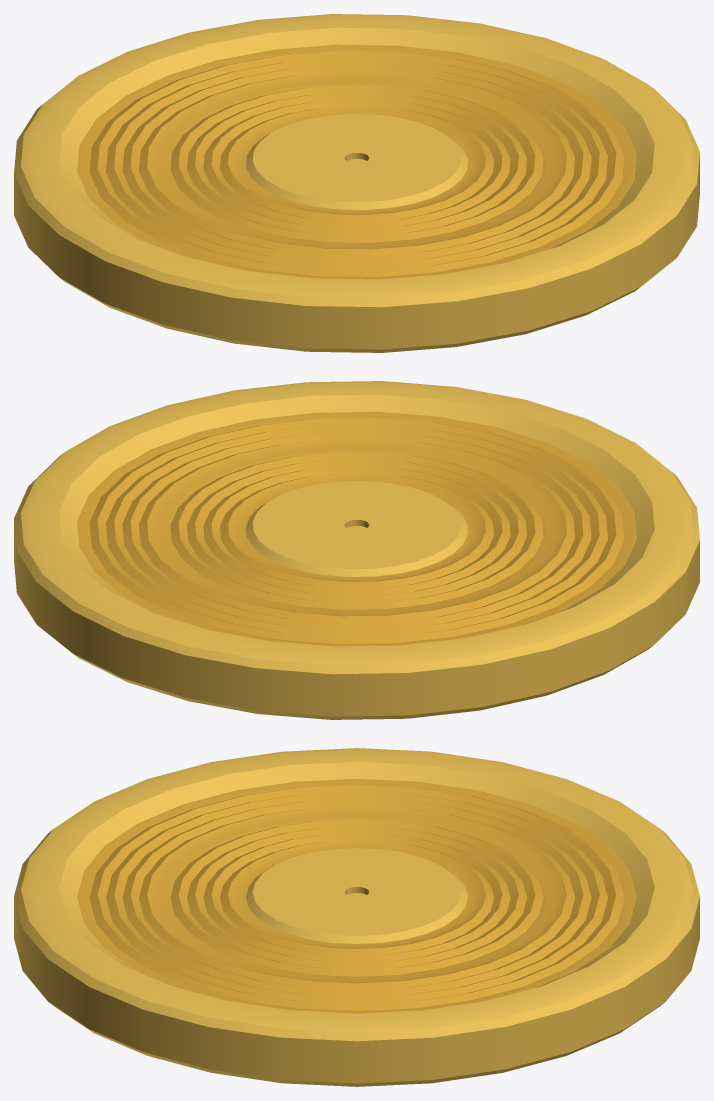
Rendered from Medal.obj.
The picture shows the model from 3 angles, top to bottom: view 1: azimuth 30°, elevation 25°; view 2: azimuth 150°, elevation 25°; view 3: azimuth 270°, elevation 25°; orthographic projection.
Parts seen in each view (by area): view 1: Medal; view 2: Medal; view 3: Medal.
Part boxes in pixels (x1,y1,x2,y2): Medal: (14, 14, 699, 352); Medal: (14, 381, 699, 719); Medal: (14, 748, 699, 1086).
Bounding box in the file's own units: 0.025 × 0.0024 × 0.025.
